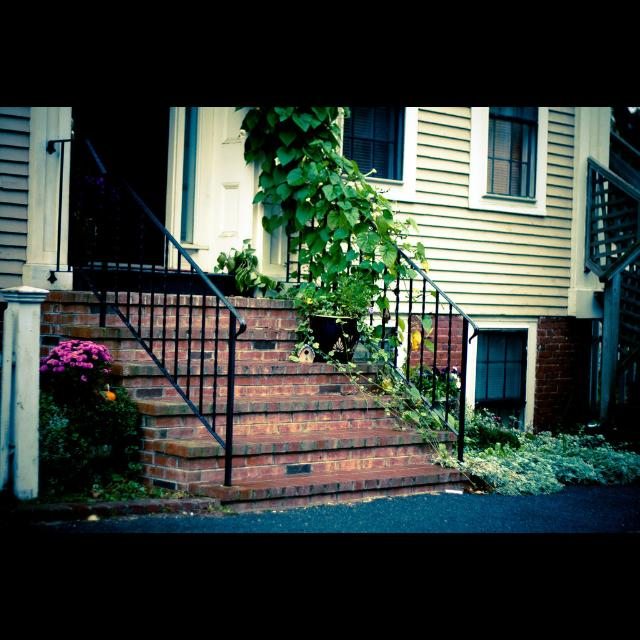Flower: (43, 337, 115, 379)
